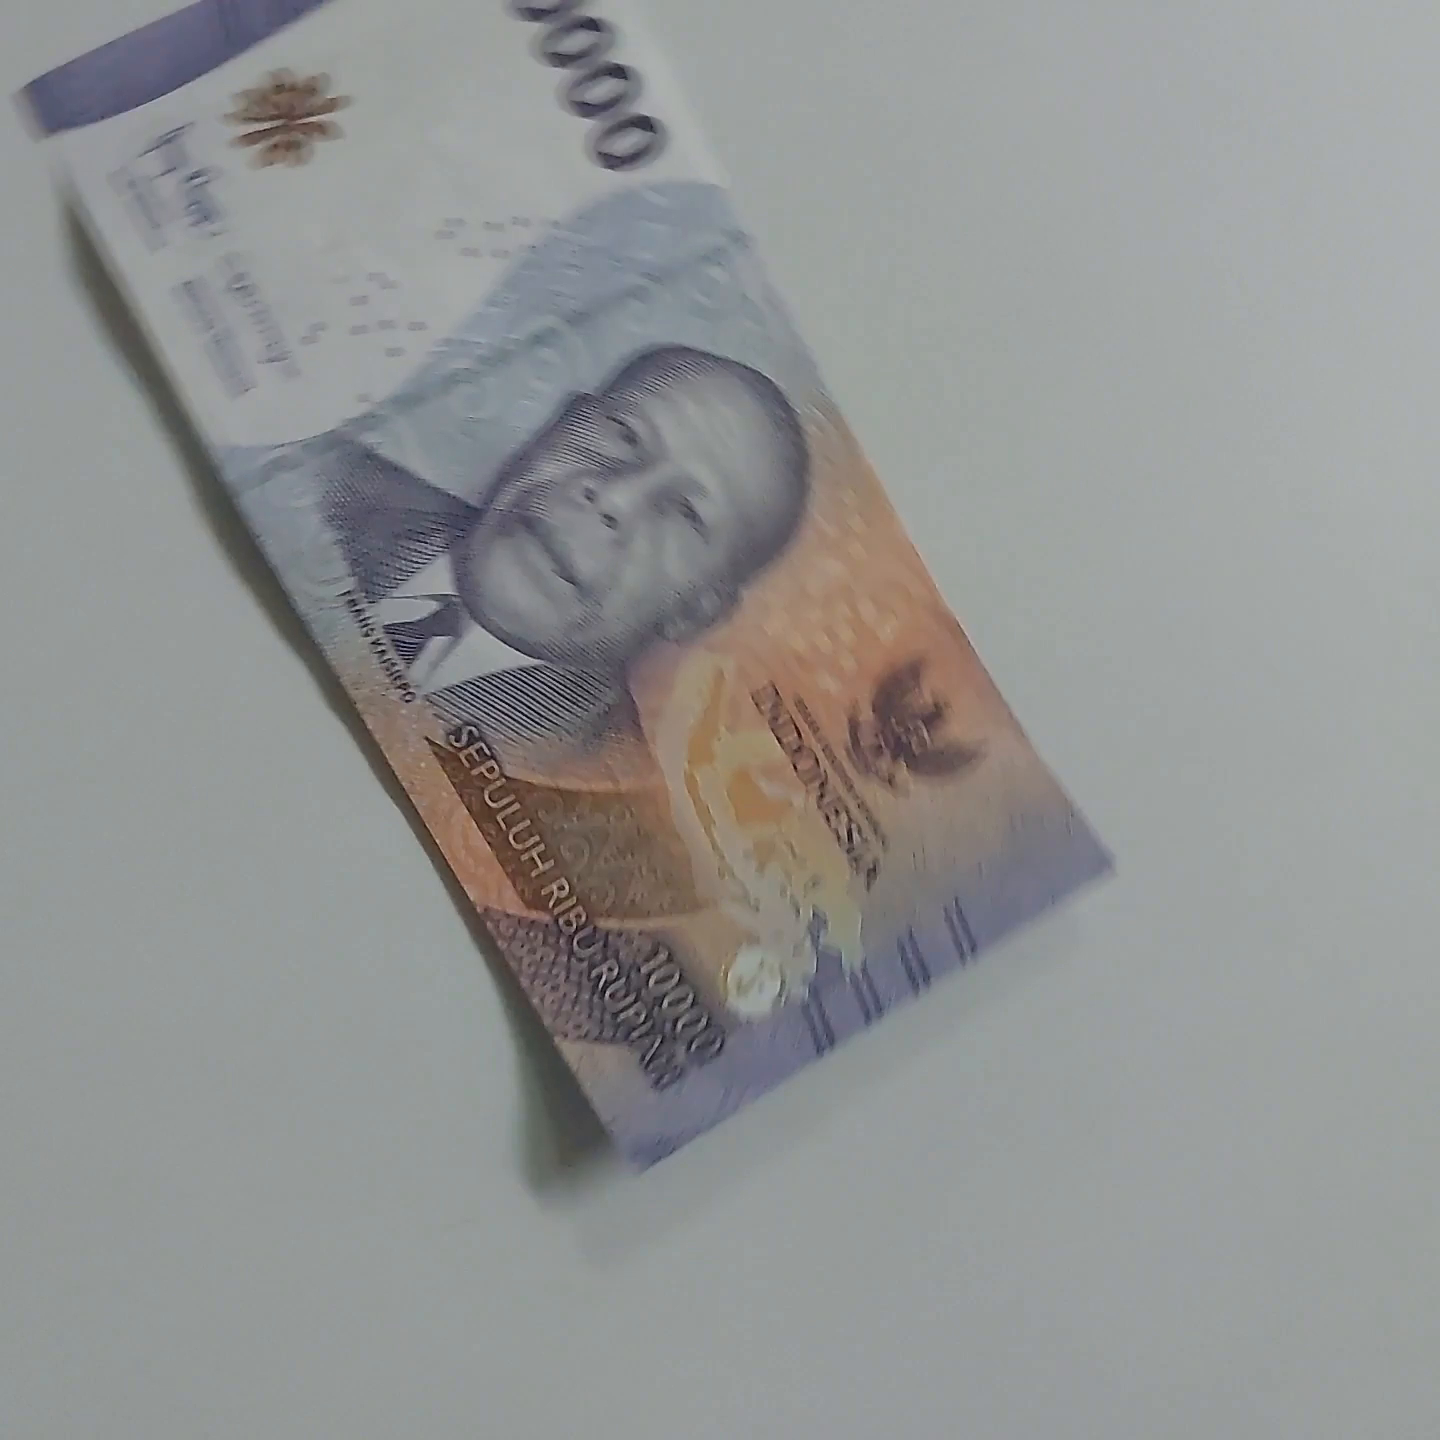10k: (15, 0, 1118, 1192)
